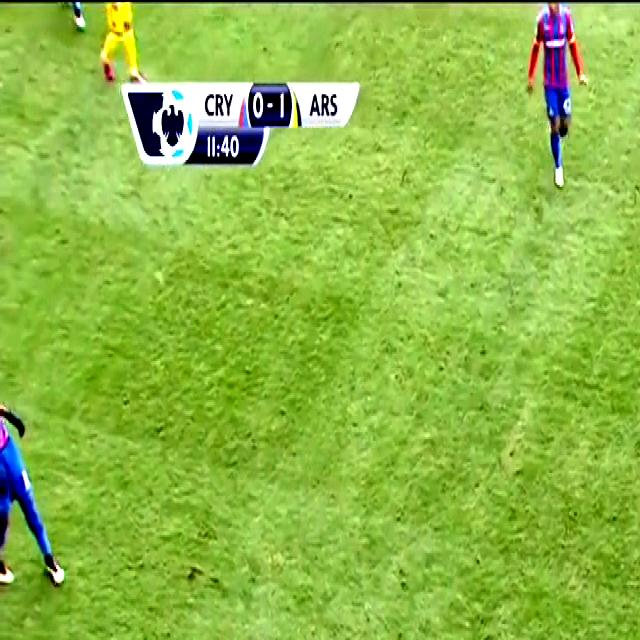soccer-player: (520, 1, 598, 196), (0, 396, 72, 602), (94, 0, 148, 84), (52, 0, 106, 37)
